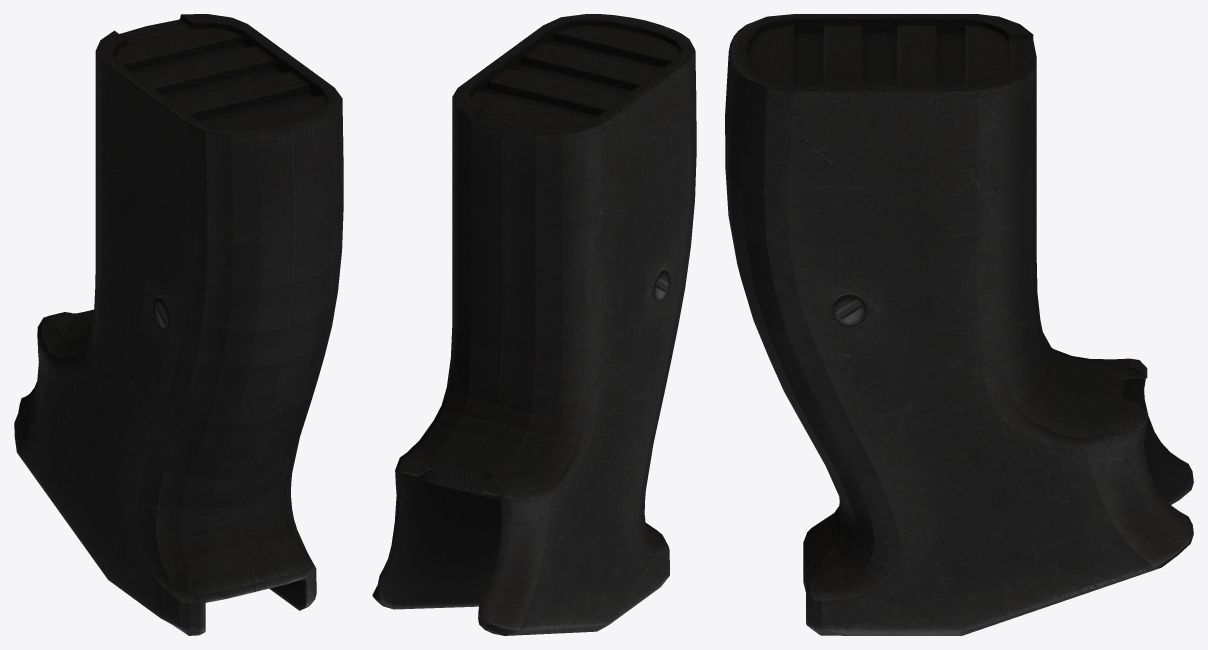
3 views of the same model, side by side, from view 1: azimuth 30°, elevation 25°; view 2: azimuth 150°, elevation 25°; view 3: azimuth 270°, elevation 25° (orthographic). The views are drawn at different scales.
Parts seen in each view (by area): view 1: TW_633ec8e4025b096d320a3b1e_PZ_Import; view 2: TW_633ec8e4025b096d320a3b1e_PZ_Import; view 3: TW_633ec8e4025b096d320a3b1e_PZ_Import.
Part boxes in pixels (box(x1,y1,x2,y2)): TW_633ec8e4025b096d320a3b1e_PZ_Import: box(14, 14, 343, 635); TW_633ec8e4025b096d320a3b1e_PZ_Import: box(372, 14, 696, 635); TW_633ec8e4025b096d320a3b1e_PZ_Import: box(725, 14, 1193, 635).
Bounding box in the file's own units: 0.0193 × 0.0508 × 0.0662.
1 material, 1 textured.
